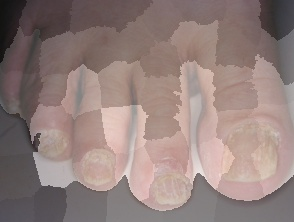Nail_psoriasis: (198, 110, 292, 202), (138, 144, 199, 212), (71, 134, 129, 194), (27, 119, 73, 163), (0, 91, 27, 121)
